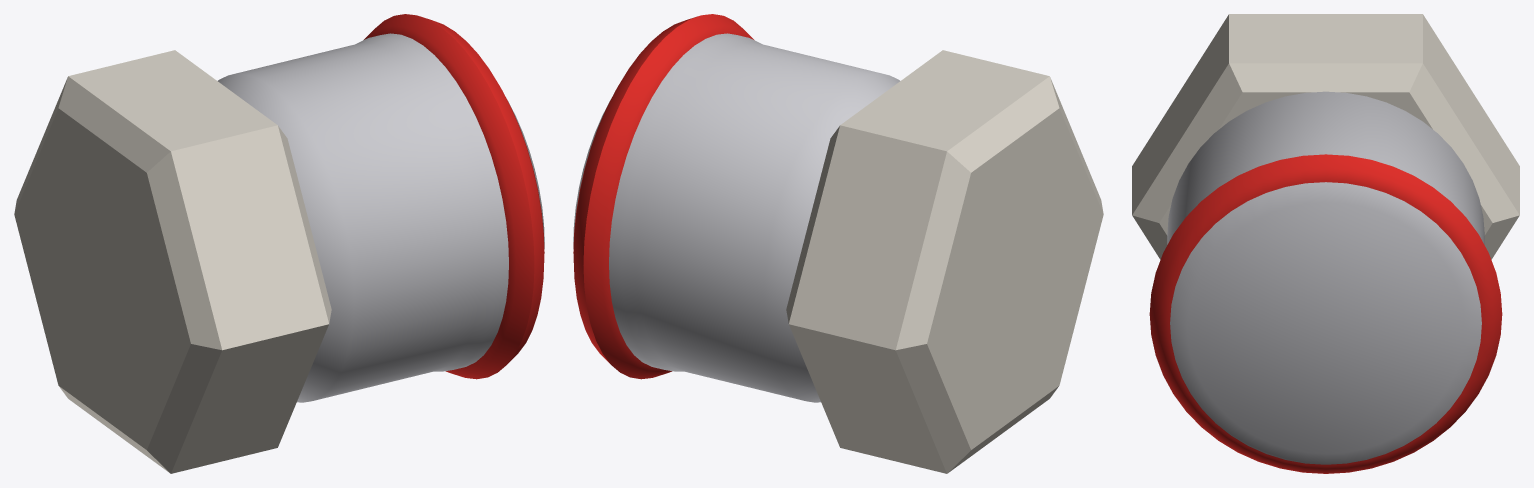
File: fitting_adp_35x114_F_r.glb
3 renders of one model, left to right at view 1: azimuth 30°, elevation 25°; view 2: azimuth 150°, elevation 25°; view 3: azimuth 270°, elevation 25°, orthographic. The views are drawn at different scales.
Parts seen in each view (by area): view 1: шестигранник переходника, раструб, кольцо пресс; view 2: шестигранник переходника, раструб, кольцо пресс; view 3: раструб, шестигранник переходника, кольцо пресс.
Part boxes in pixels (x1,y1,x2,y2): шестигранник переходника: (14, 50, 331, 473); раструб: (218, 33, 544, 402); кольцо пресс: (364, 14, 544, 379); шестигранник переходника: (786, 50, 1103, 473); раструб: (573, 33, 899, 402); кольцо пресс: (573, 14, 753, 379); раструб: (1167, 91, 1484, 464); шестигранник переходника: (1132, 14, 1519, 259); кольцо пресс: (1149, 154, 1502, 473).
Size of the model in its own units: 0.055 by 0.0483 by 0.0531.
